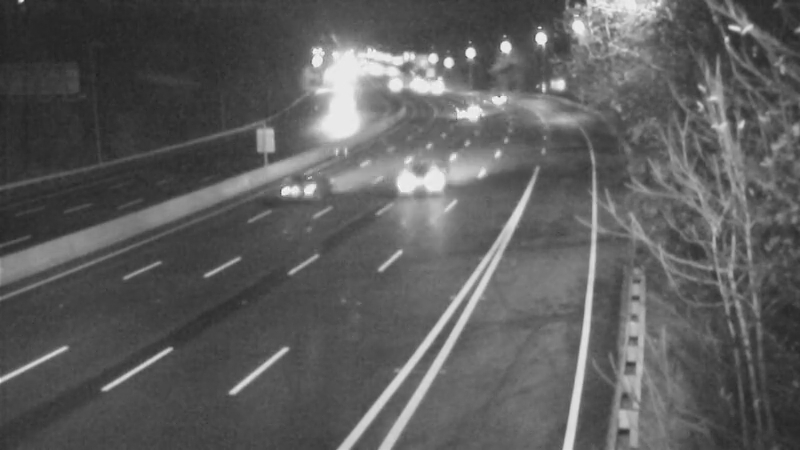vehicle: (377, 140, 457, 220), (260, 147, 340, 227), (417, 60, 467, 110), (469, 70, 519, 120), (444, 89, 494, 139), (314, 100, 364, 150)
